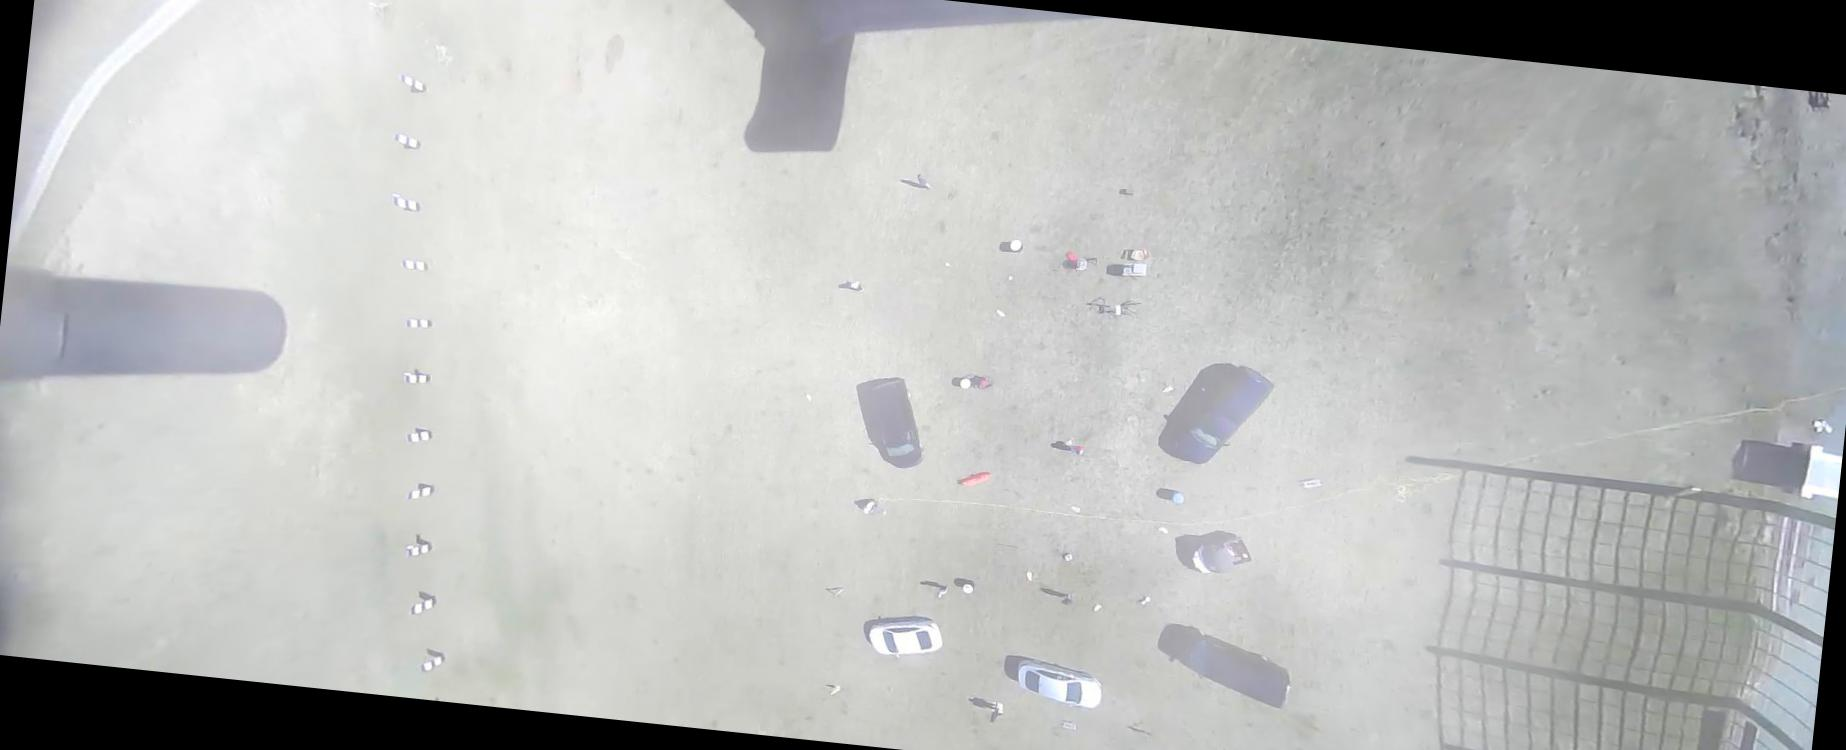vehicle: (1171, 358, 1279, 473), (1169, 624, 1295, 711), (863, 374, 935, 470), (1015, 656, 1107, 711), (865, 611, 948, 664), (1189, 531, 1257, 579)
